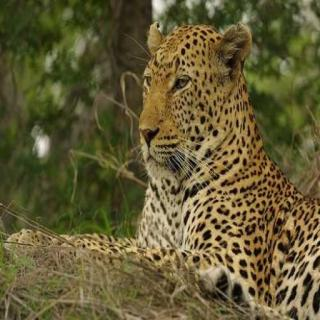Leopard: (118, 0, 319, 310)
